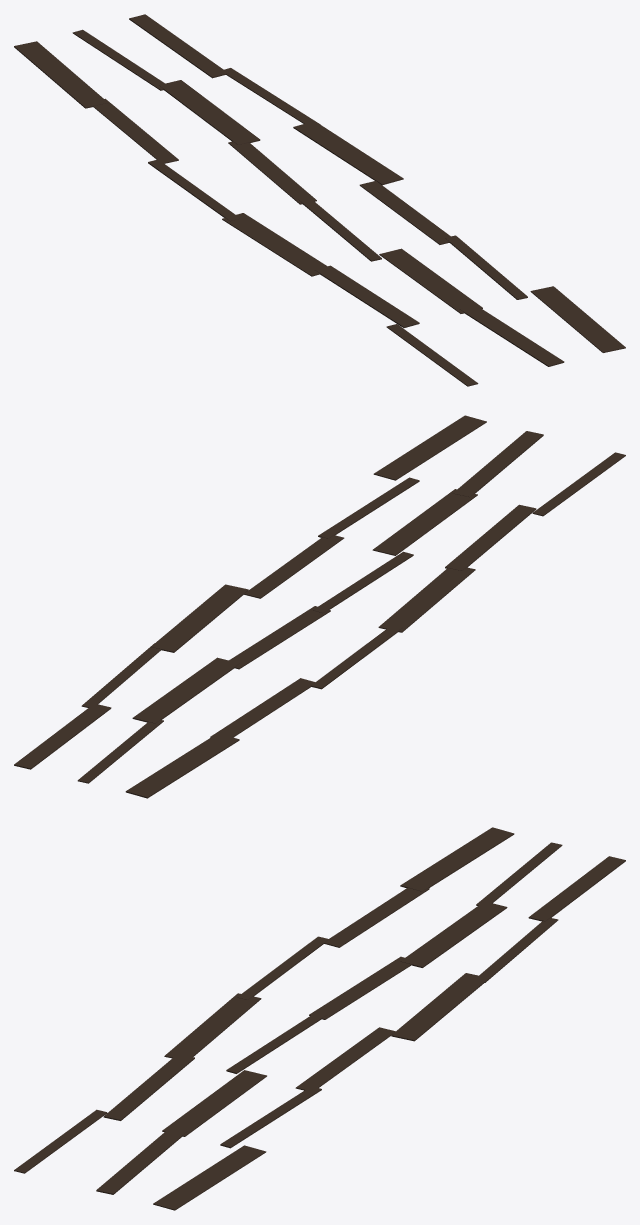
File: trace_drag_marks.glb
3 renders of one model, top to bottom at view 1: azimuth 30°, elevation 25°; view 2: azimuth 150°, elevation 25°; view 3: azimuth 330°, elevation 25°, orthographic. The views are drawn at different scales.
Visible parts, largest first — view 1: trace_drag_marks; view 2: trace_drag_marks; view 3: trace_drag_marks.
Boxes of the visible parts, x1,y1,x2,y2 form: trace_drag_marks: (14,14,625,386); trace_drag_marks: (14,415,625,798); trace_drag_marks: (14,827,625,1210).
Size of the model in its own units: 0.4096 by 0.0025 by 1.82.
